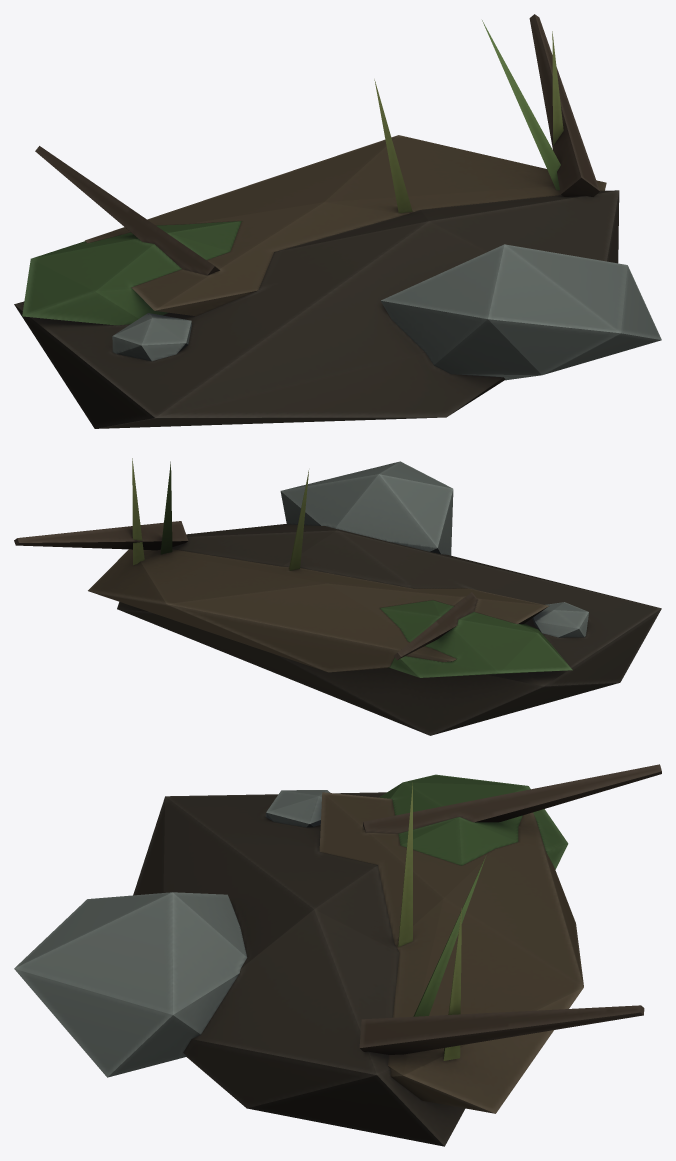
The model's file is decor_shore_b.glb.
3 views of the same model, one above another, from view 1: azimuth 30°, elevation 25°; view 2: azimuth 150°, elevation 25°; view 3: azimuth 270°, elevation 25° (orthographic). The views are drawn at different scales.
Visible parts, largest first — view 1: decor_shore_b; view 2: decor_shore_b; view 3: decor_shore_b.
Boxes of the visible parts, x1,y1,x2,y2 form: decor_shore_b: [14, 14, 661, 428]; decor_shore_b: [14, 458, 661, 735]; decor_shore_b: [14, 764, 661, 1146].
Size of the model in its own units: 1.41 by 0.62 by 1.17.
Materials: 1 (1 with a texture image).
